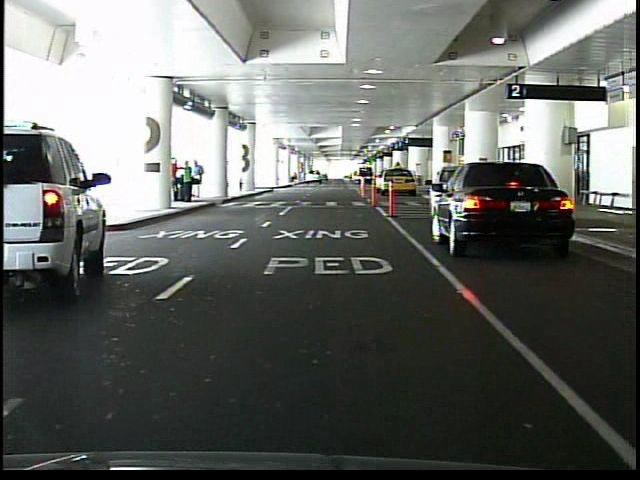person: (181, 160, 194, 203), (193, 160, 206, 199)
